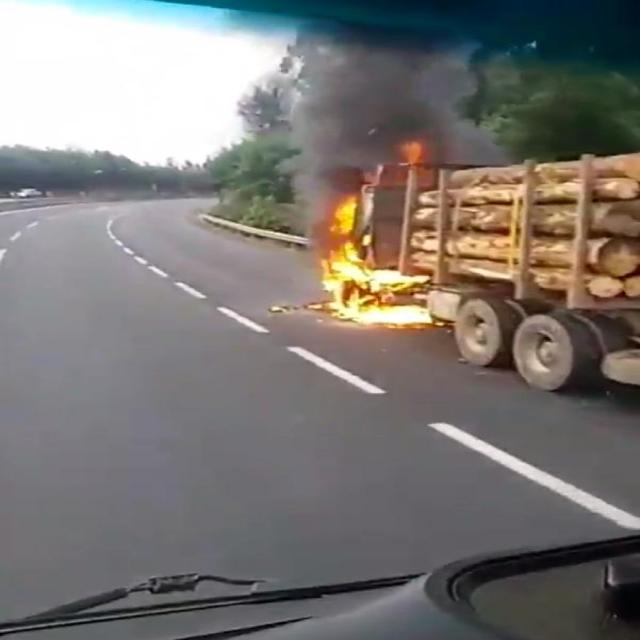Fire: (314, 200, 431, 326), (400, 140, 430, 166)
